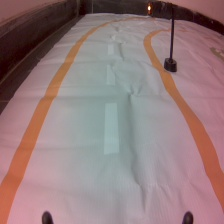yellow: (145, 1, 178, 73)
